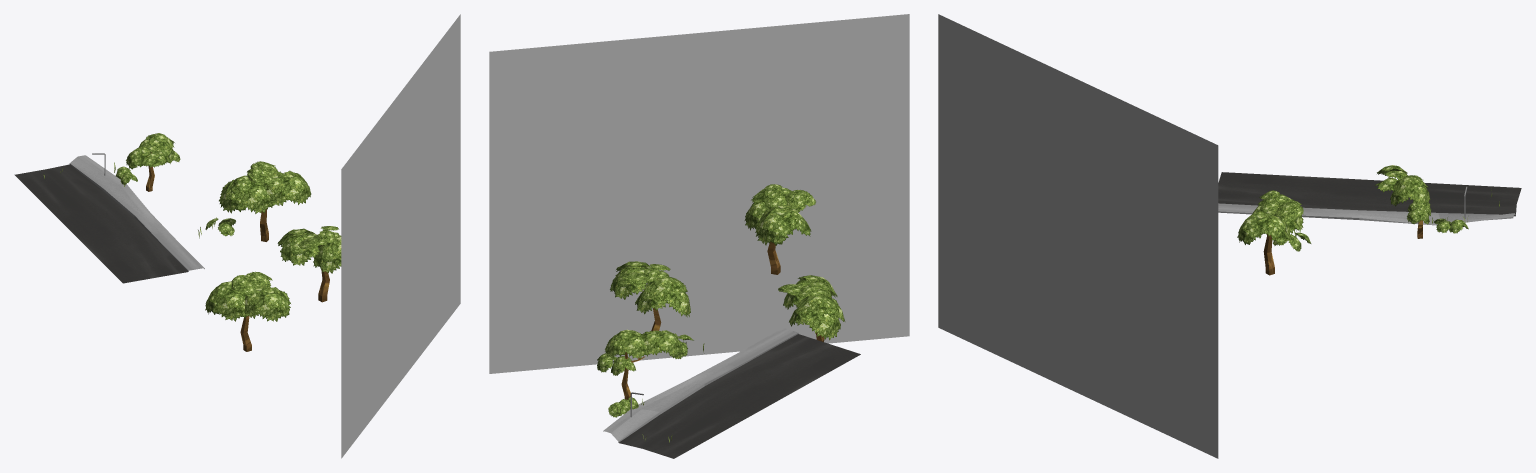
File: main env.fbx
3 renders of one model, left to right at view 1: azimuth 30°, elevation 25°; view 2: azimuth 150°, elevation 25°; view 3: azimuth 270°, elevation 25°, orthographic. The views are drawn at different scales.
Parts seen in each view (by area): view 1: sky, Cube.020, Cube.003, Cube.002, Cube.004, Cube.001; view 2: sky, Cube.020, Cube.004, Cube.003, Cube.002, Cube.001; view 3: sky, Cube.020, Cube.003, Cube.001.
Boxes of the visible parts, x1,y1,x2,y2 form: sky: [341, 14, 460, 458]; Cube.020: [14, 155, 204, 283]; Cube.003: [219, 161, 311, 241]; Cube.002: [205, 271, 290, 351]; Cube.004: [277, 226, 341, 302]; Cube.001: [126, 133, 180, 191]; sky: [489, 14, 909, 373]; Cube.020: [603, 327, 860, 458]; Cube.004: [744, 184, 815, 274]; Cube.003: [610, 261, 690, 331]; Cube.002: [778, 275, 845, 341]; Cube.001: [597, 329, 682, 399]; sky: [938, 14, 1218, 458]; Cube.020: [1218, 172, 1521, 225]; Cube.003: [1237, 190, 1303, 275]; Cube.001: [1375, 165, 1431, 238].
Bounding box in the file's own units: 8434 × 6947 × 11713.
